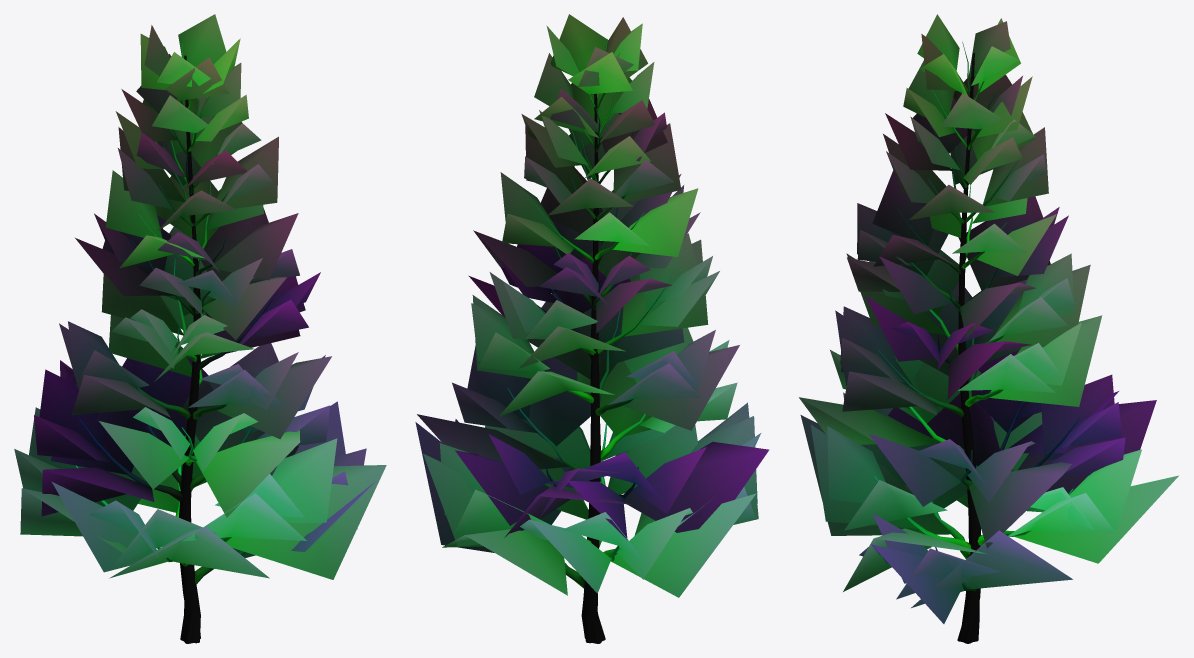
The model's file is Spruce.fbx.
The picture shows the model from 3 angles, left to right: view 1: azimuth 30°, elevation 25°; view 2: azimuth 150°, elevation 25°; view 3: azimuth 270°, elevation 25°; orthographic projection.
Visible parts, largest first — view 1: Tree_2, Tree_1, Tree_0; view 2: Tree_2, Tree_1, Tree_0; view 3: Tree_2, Tree_1, Tree_0.
Part boxes in pixels (x1,y1,x2,y2): Tree_2: [14, 34, 386, 579]; Tree_1: [29, 14, 375, 572]; Tree_0: [75, 42, 276, 643]; Tree_2: [415, 14, 769, 597]; Tree_1: [423, 23, 760, 593]; Tree_0: [507, 39, 671, 643]; Tree_2: [799, 18, 1178, 607]; Tree_1: [810, 14, 1125, 623]; Tree_0: [874, 42, 1079, 643].
Bounding box in the file's own units: 58.81 × 105 × 59.11.
